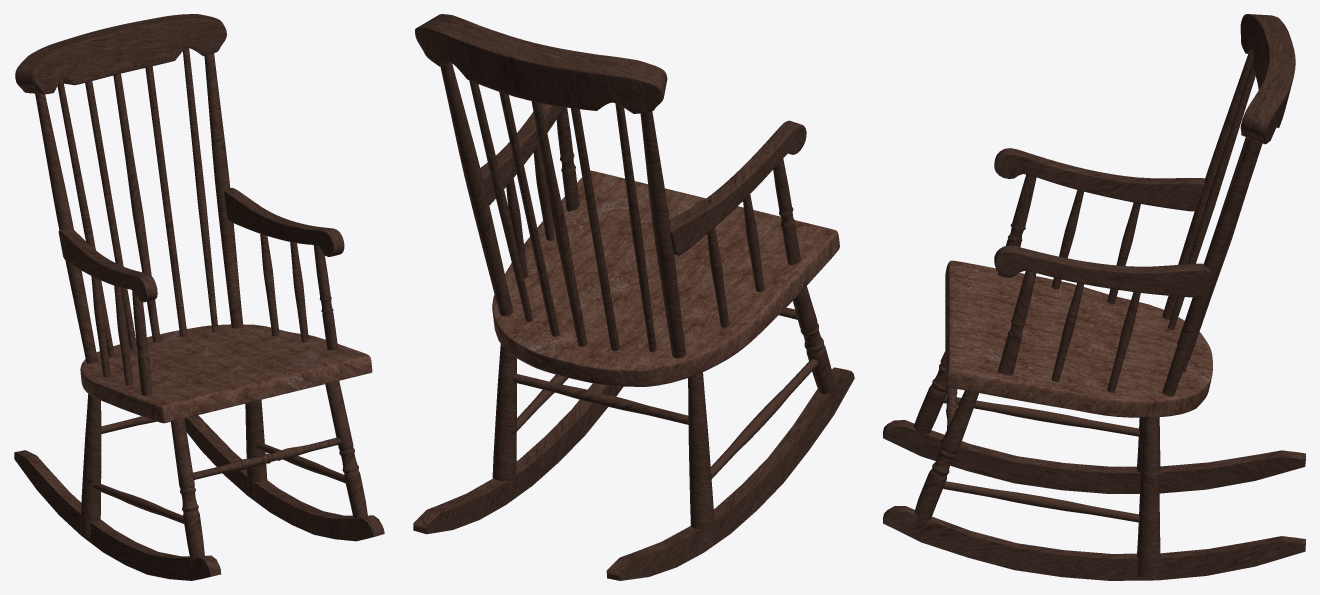
File: rocking_chair.glb
3 views of the same model, side by side, from view 1: azimuth 30°, elevation 25°; view 2: azimuth 150°, elevation 25°; view 3: azimuth 270°, elevation 25° (orthographic). The views are drawn at different scales.
Parts seen in each view (by area): view 1: PilierHautAvantDroit2; view 2: PilierHautAvantDroit2; view 3: PilierHautAvantDroit2.
Part boxes in pixels (box(x1,y1,x2,y2)): PilierHautAvantDroit2: box(14, 14, 384, 580); PilierHautAvantDroit2: box(413, 14, 854, 580); PilierHautAvantDroit2: box(883, 14, 1305, 580).
Size of the model in its own units: 0.6164 by 1.24 by 0.9914.
Materials: 1 (1 with a texture image).
